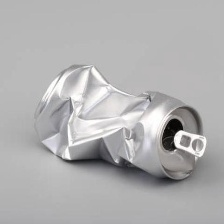can: (19, 59, 212, 191)
